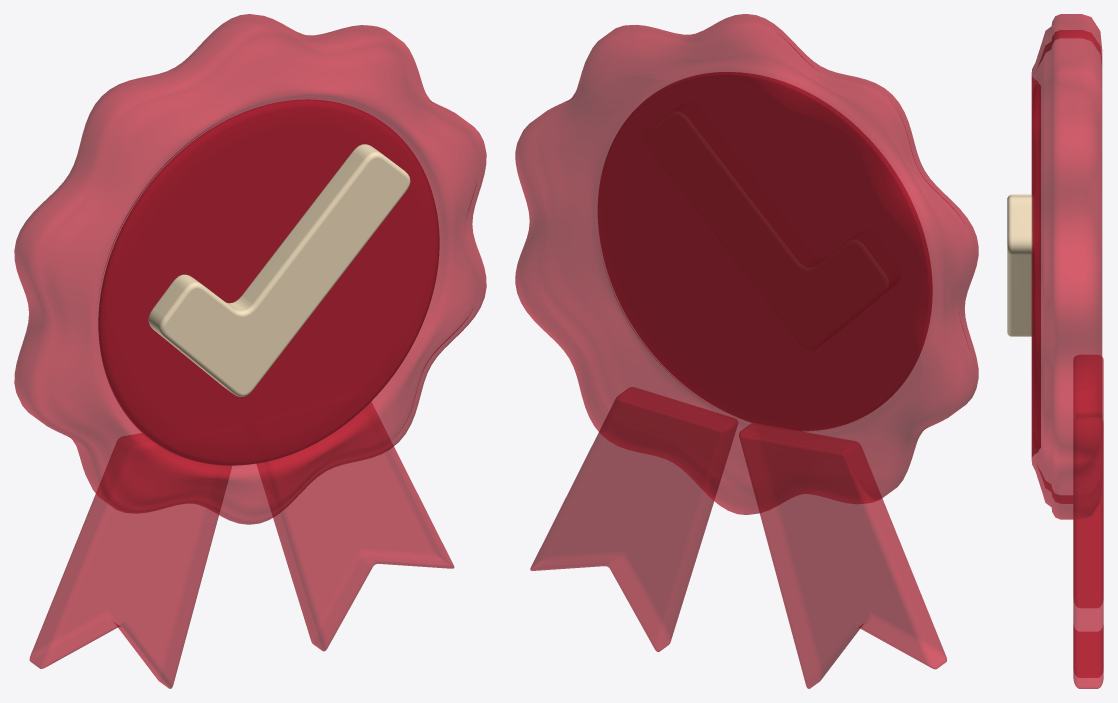
Rendered from iam.glb.
The picture shows the model from 3 angles, left to right: view 1: azimuth 30°, elevation 25°; view 2: azimuth 150°, elevation 25°; view 3: azimuth 270°, elevation 25°; orthographic projection. The views are drawn at different scales.
Visible parts, largest first — view 1: Scalloped ruby seal, Inset ruby face, Left ribbon tail, Right ribbon tail, Raised ivory check; view 2: Scalloped ruby seal, Inset ruby face, Left ribbon tail, Right ribbon tail; view 3: Scalloped ruby seal, Right ribbon tail, Left ribbon tail, Raised ivory check, Inset ruby face.
Boxes of the visible parts, x1,y1,x2,y2 form: Scalloped ruby seal: [14, 14, 486, 524]; Inset ruby face: [98, 99, 439, 465]; Left ribbon tail: [29, 433, 231, 688]; Right ribbon tail: [256, 402, 454, 651]; Raised ivory check: [148, 144, 410, 396]; Scalloped ruby seal: [515, 14, 978, 514]; Inset ruby face: [598, 72, 932, 430]; Left ribbon tail: [739, 423, 946, 688]; Right ribbon tail: [530, 387, 737, 651]; Scalloped ruby seal: [1031, 14, 1102, 519]; Right ribbon tail: [1073, 417, 1103, 688]; Left ribbon tail: [1073, 355, 1103, 607]; Raised ivory check: [1007, 194, 1032, 336]; Inset ruby face: [1033, 84, 1040, 449].
Bounding box in the file's own units: 1.95 × 2.66 × 0.382.
